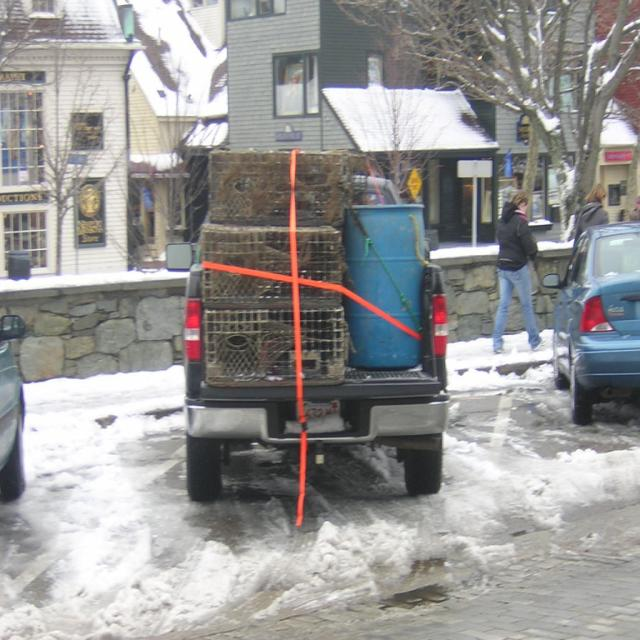car: (539, 218, 639, 427)
